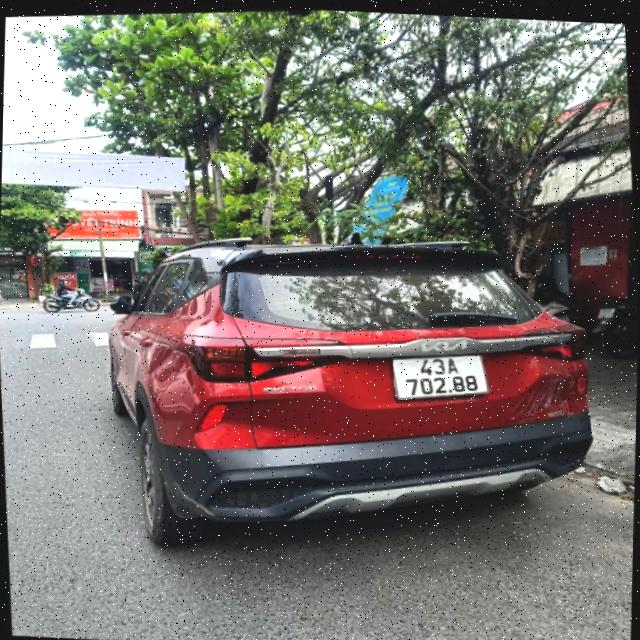car: (102, 216, 596, 562)
plate: (385, 343, 493, 408)
